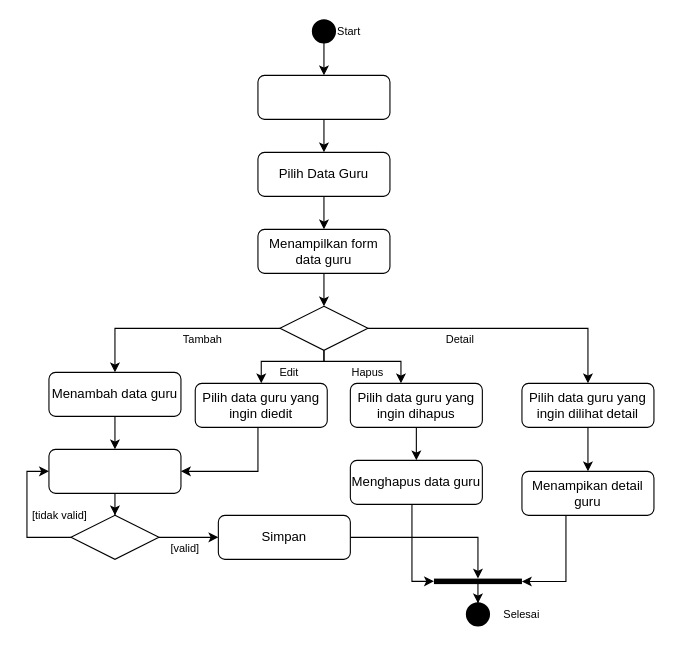
The diagram is 673 pixels wide and 645 high, and some of its shapes have lost their labels. Here are the shapes that lost their labels. From the top down, the centre of each, then its label:
At point (323, 96): "Masuk ke menu Utama".
At point (323, 327): "Opsi".
At point (114, 470): "Form input data".
At point (114, 536): "Validasi".
